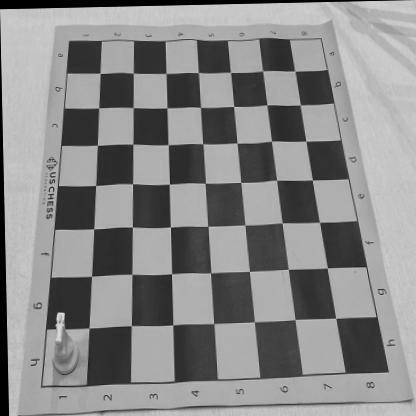white-knight: (50, 310, 78, 374)
